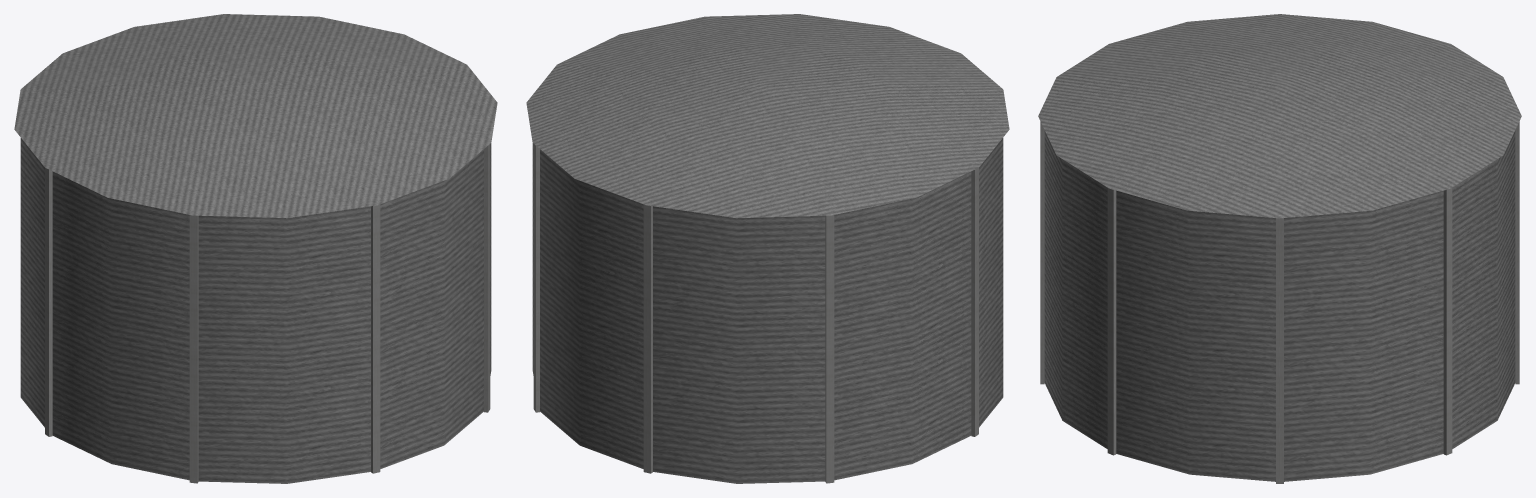
File: water-tank-corrigated-8x3-cbj_LOD02.gltf
The picture shows the model from 3 angles, left to right: view 1: azimuth 30°, elevation 25°; view 2: azimuth 150°, elevation 25°; view 3: azimuth 270°, elevation 25°; orthographic projection.
Visible parts, largest first — view 1: tank02; view 2: tank02; view 3: tank02.
Part boxes in pixels (x1,y1,x2,y2): tank02: (14,14,497,483); tank02: (526,14,1009,483); tank02: (1038,14,1521,483).
Bounding box in the file's own units: 8.22 × 5.54 × 8.22.
